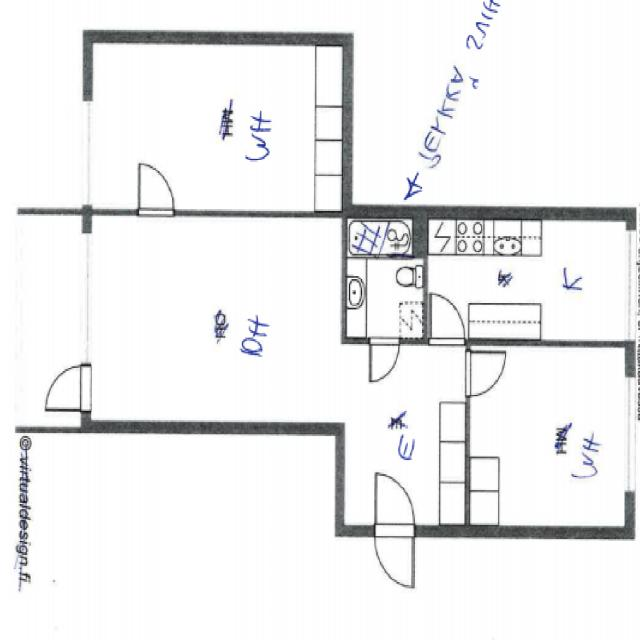door: (375, 524, 415, 588), (375, 471, 415, 535), (47, 365, 94, 413), (466, 350, 504, 396), (431, 293, 465, 343), (139, 168, 172, 219), (370, 338, 399, 383)
